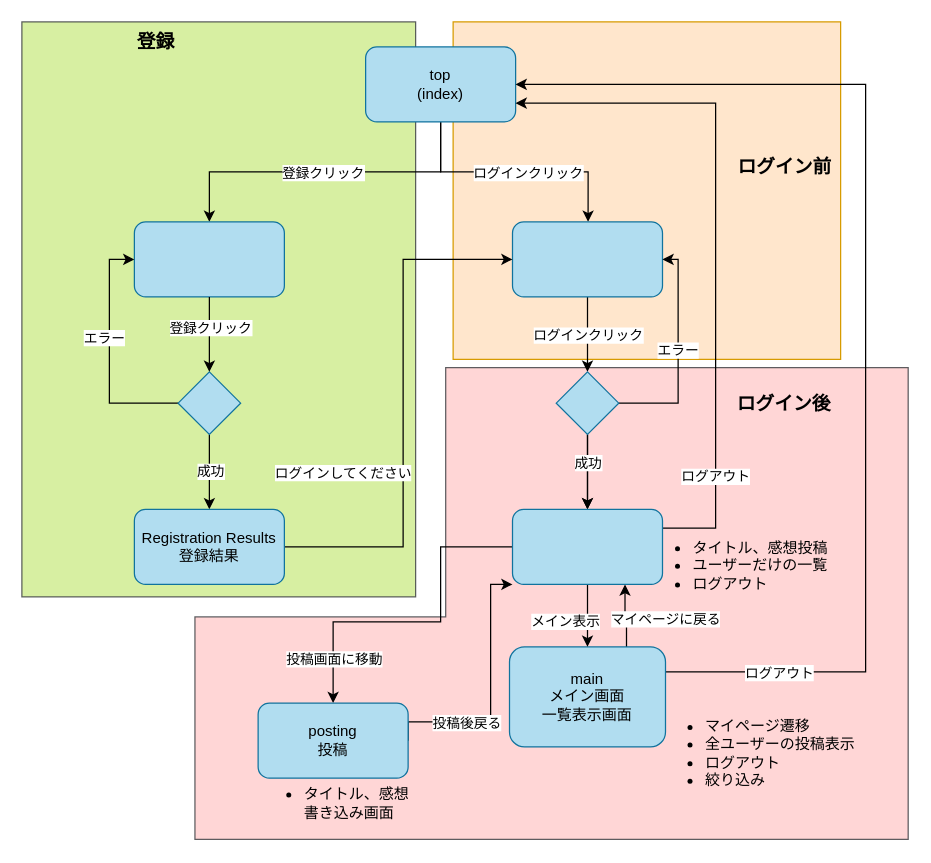
This 931x863 diagram has some shape labels left out. Here are the shapes that lost their labels. From the top down, the box of each, then its label:
(133, 221, 284, 297): register 登録
(511, 221, 662, 297): login ログイン画面
(511, 508, 662, 584): myPage マイページ
